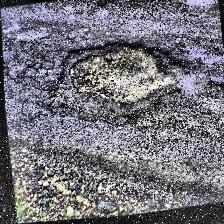pothole: (44, 30, 180, 118)
